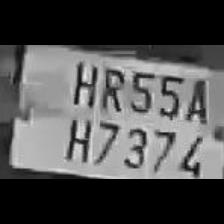3: (120, 122, 148, 170)
4: (174, 128, 204, 176)
5: (124, 68, 154, 114), (155, 71, 183, 119)
7: (148, 124, 176, 174), (90, 118, 118, 166)
A: (182, 74, 208, 126)
H: (60, 112, 92, 164), (66, 58, 97, 108)
R: (97, 64, 125, 112)
